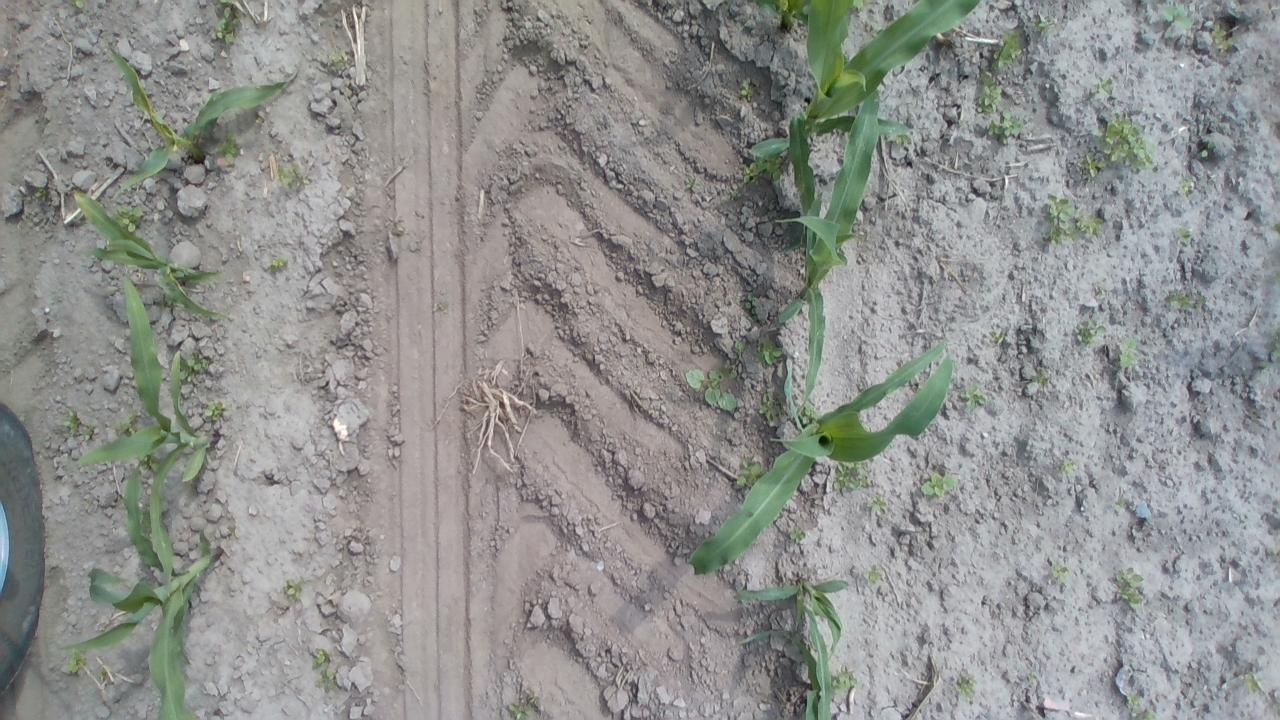Maize: (684, 338, 954, 578), (77, 272, 218, 578), (62, 456, 222, 720), (750, 0, 984, 178), (776, 88, 881, 416), (104, 40, 298, 197), (68, 190, 224, 324), (737, 600, 833, 720), (734, 574, 850, 662), (750, 0, 806, 36)
Weeds: (1091, 109, 1154, 171), (1040, 194, 1104, 246), (684, 367, 744, 412), (210, 0, 242, 45), (832, 460, 872, 494), (274, 158, 312, 192), (992, 30, 1024, 70), (1116, 568, 1146, 610), (986, 112, 1024, 144), (760, 0, 803, 28), (311, 647, 337, 689), (754, 333, 786, 367), (758, 390, 788, 426), (742, 159, 782, 185), (975, 76, 1002, 114), (958, 384, 992, 414), (109, 206, 144, 234), (920, 471, 956, 498), (1162, 1, 1193, 32), (179, 350, 209, 382), (736, 457, 766, 487), (214, 128, 242, 160), (1074, 318, 1106, 346), (1167, 290, 1208, 310), (831, 664, 858, 694), (1210, 23, 1240, 49), (112, 409, 140, 436), (1126, 694, 1155, 720), (1076, 153, 1106, 177), (326, 47, 352, 72), (740, 292, 760, 322), (1050, 558, 1071, 584), (64, 650, 87, 673), (282, 578, 304, 602), (1119, 338, 1137, 367), (954, 674, 976, 696), (1054, 457, 1077, 478), (799, 401, 820, 424), (203, 398, 223, 421), (1031, 13, 1055, 32), (64, 409, 82, 434), (1243, 671, 1262, 694), (866, 494, 888, 513), (70, 0, 96, 16), (1268, 326, 1280, 358), (140, 454, 160, 473), (1090, 77, 1112, 94), (1178, 176, 1194, 198), (508, 703, 528, 720), (1174, 226, 1192, 244), (1031, 368, 1049, 386), (270, 255, 288, 272), (788, 526, 804, 544), (736, 78, 752, 96), (850, 0, 874, 12), (686, 174, 701, 193), (889, 133, 912, 145), (864, 569, 880, 586), (1200, 142, 1217, 158), (732, 338, 748, 352), (84, 422, 96, 440), (34, 187, 48, 202), (1265, 270, 1280, 283), (868, 25, 882, 38), (990, 330, 1003, 344), (878, 77, 888, 92), (1261, 362, 1272, 375), (724, 190, 738, 200), (1094, 286, 1106, 296), (94, 670, 105, 680), (1112, 502, 1122, 513), (1271, 222, 1280, 234), (528, 695, 539, 704), (1273, 701, 1280, 712), (256, 116, 264, 124), (887, 440, 894, 448)
